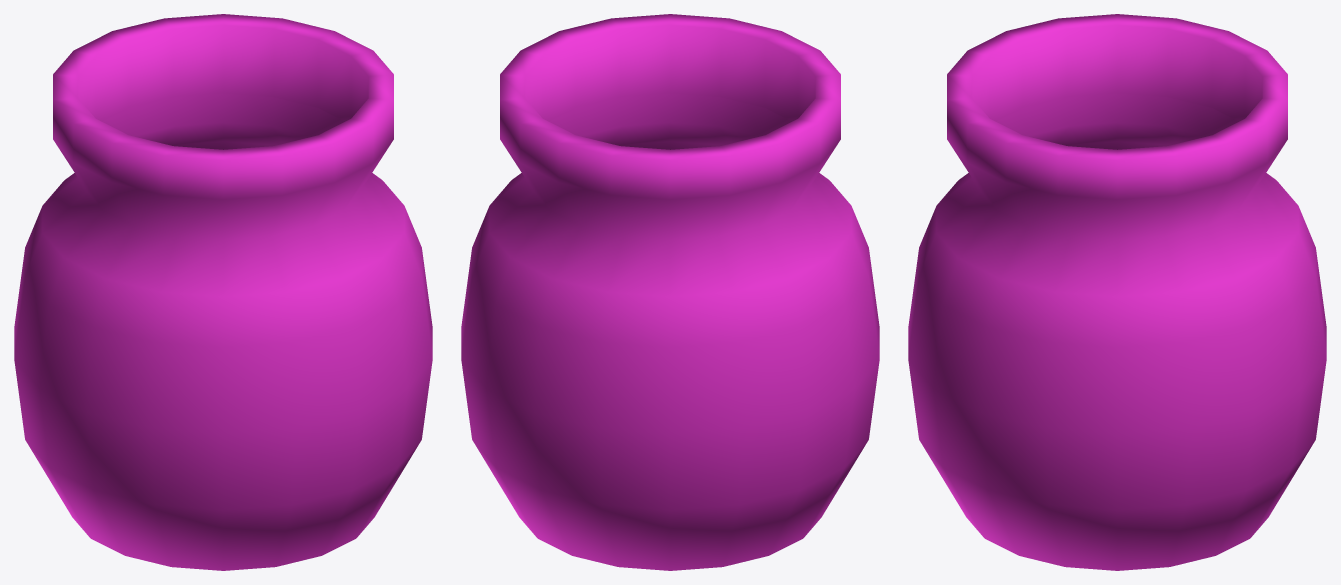
3 renders of one model, left to right at view 1: azimuth 30°, elevation 25°; view 2: azimuth 150°, elevation 25°; view 3: azimuth 270°, elevation 25°, orthographic.
Parts seen in each view (by area): view 1: 물통1_low; view 2: 물통1_low; view 3: 물통1_low.
Part boxes in pixels (box(x1,y1,x2,y2)): 물통1_low: box(14, 14, 432, 570); 물통1_low: box(461, 14, 879, 570); 물통1_low: box(908, 14, 1326, 570).
Bounding box in the file's own units: 58.36 × 63.48 × 57.47.
